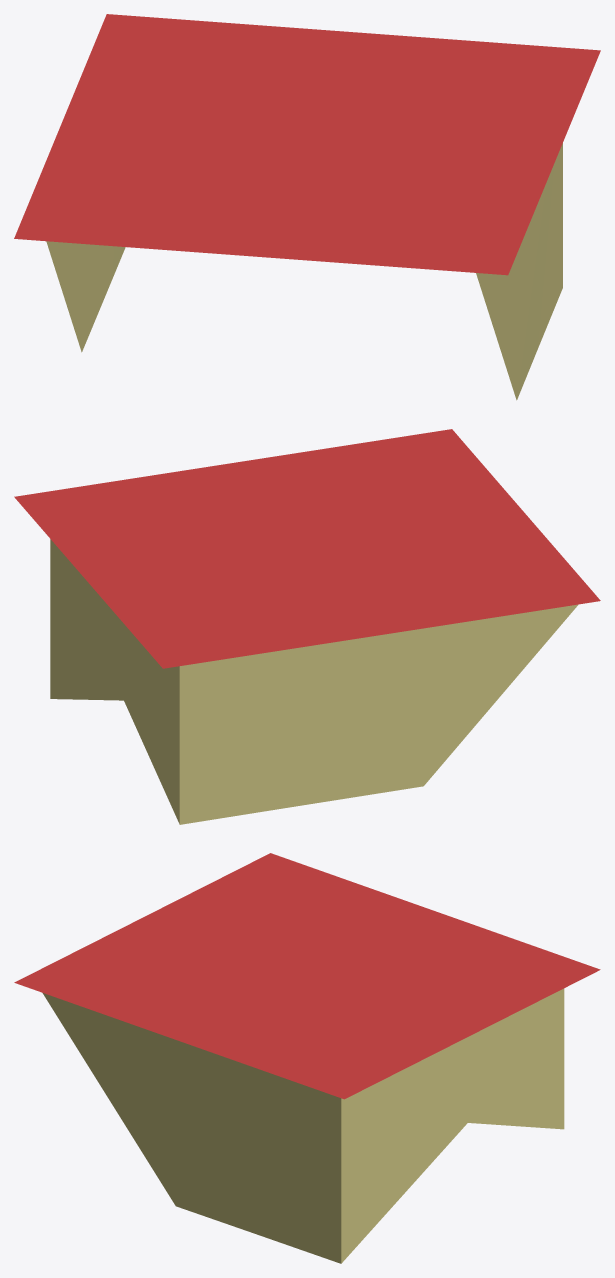
3 renders of one model, top to bottom at view 1: azimuth 30°, elevation 25°; view 2: azimuth 150°, elevation 25°; view 3: azimuth 270°, elevation 25°, orthographic. The views are drawn at different scales.
Visible parts, largest first — view 1: group_3, group_5, group_4; view 2: group_3, group_5, group_4; view 3: group_3, group_5, group_4.
Part boxes in pixels (x1,y1,x2,y2): group_3: [14, 14, 600, 275]; group_5: [46, 143, 562, 400]; group_4: [26, 14, 596, 274]; group_3: [14, 429, 600, 668]; group_5: [50, 539, 577, 824]; group_4: [17, 430, 557, 668]; group_3: [14, 853, 600, 1099]; group_5: [42, 988, 564, 1263]; group_4: [16, 861, 599, 1094].
Bounding box in the file's own units: 5.59 × 5.63 × 1.91.
